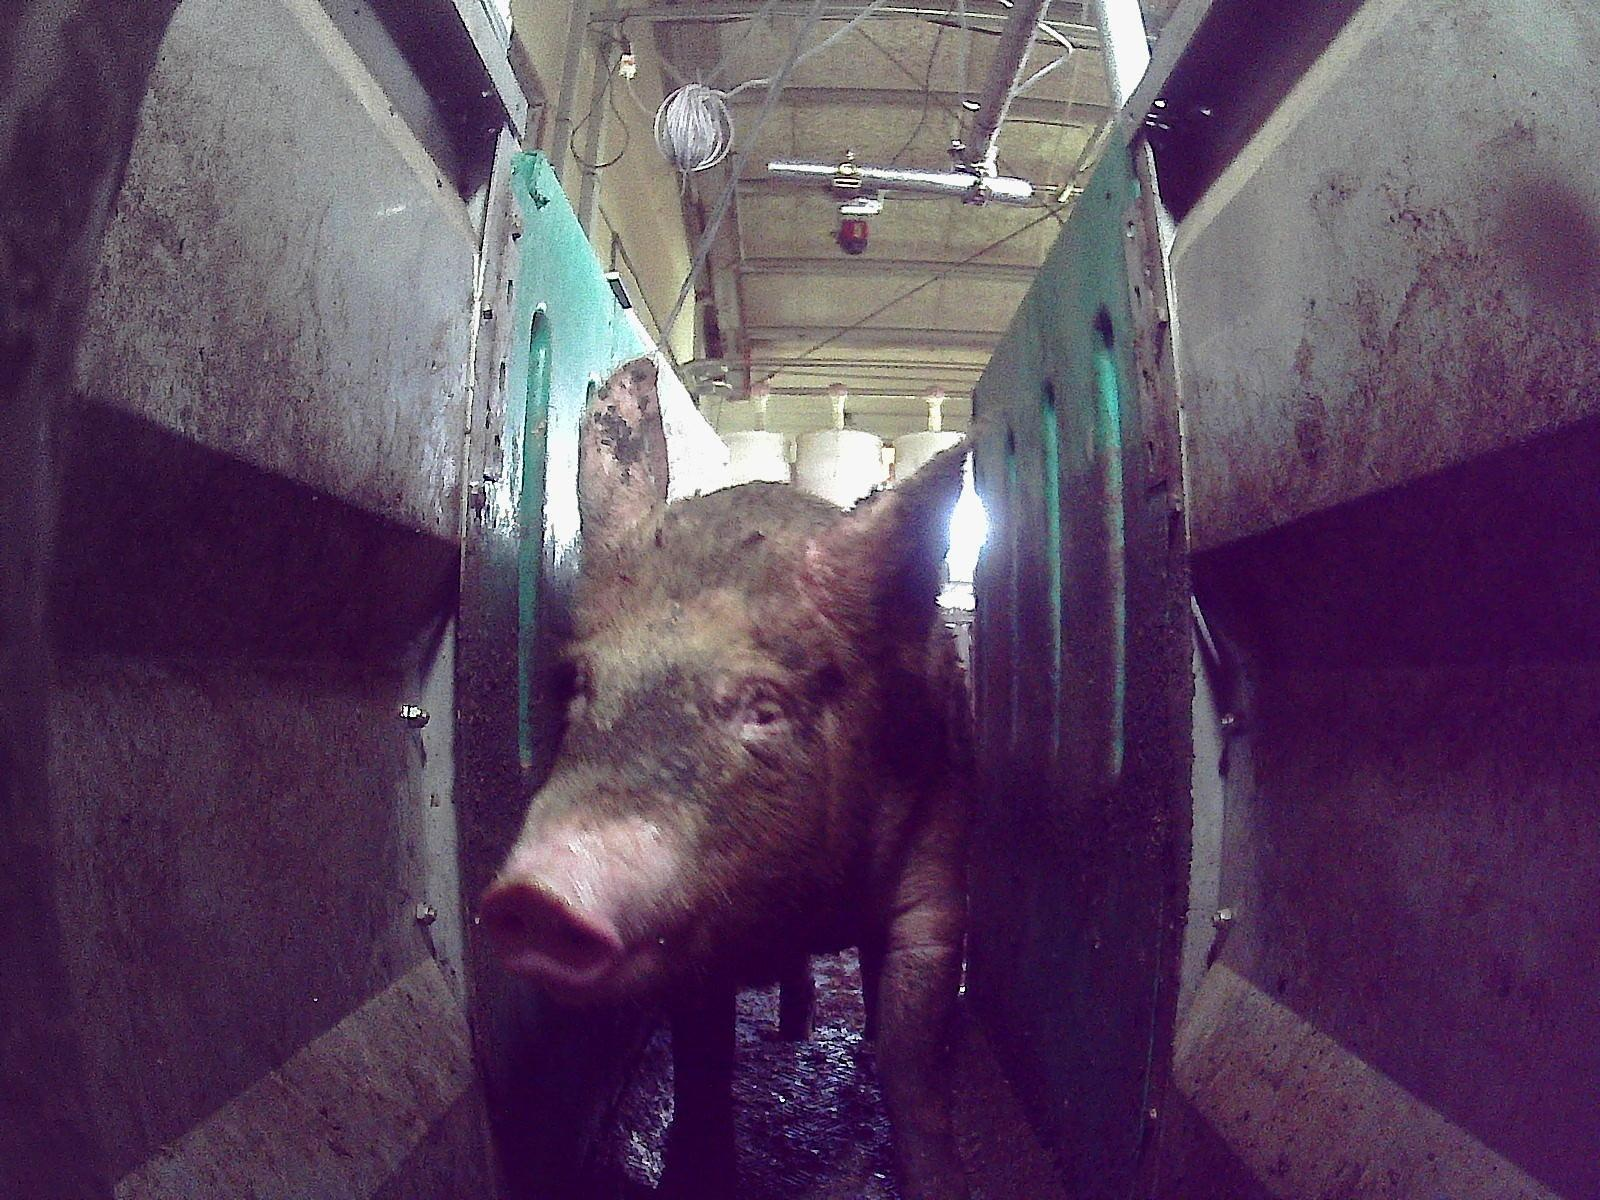Face: (475, 511, 865, 998)
